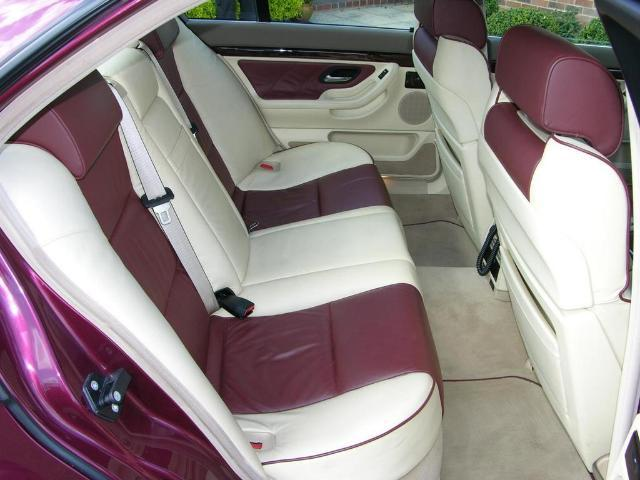Seatbelt: (108, 82, 222, 314), (608, 73, 640, 479)
